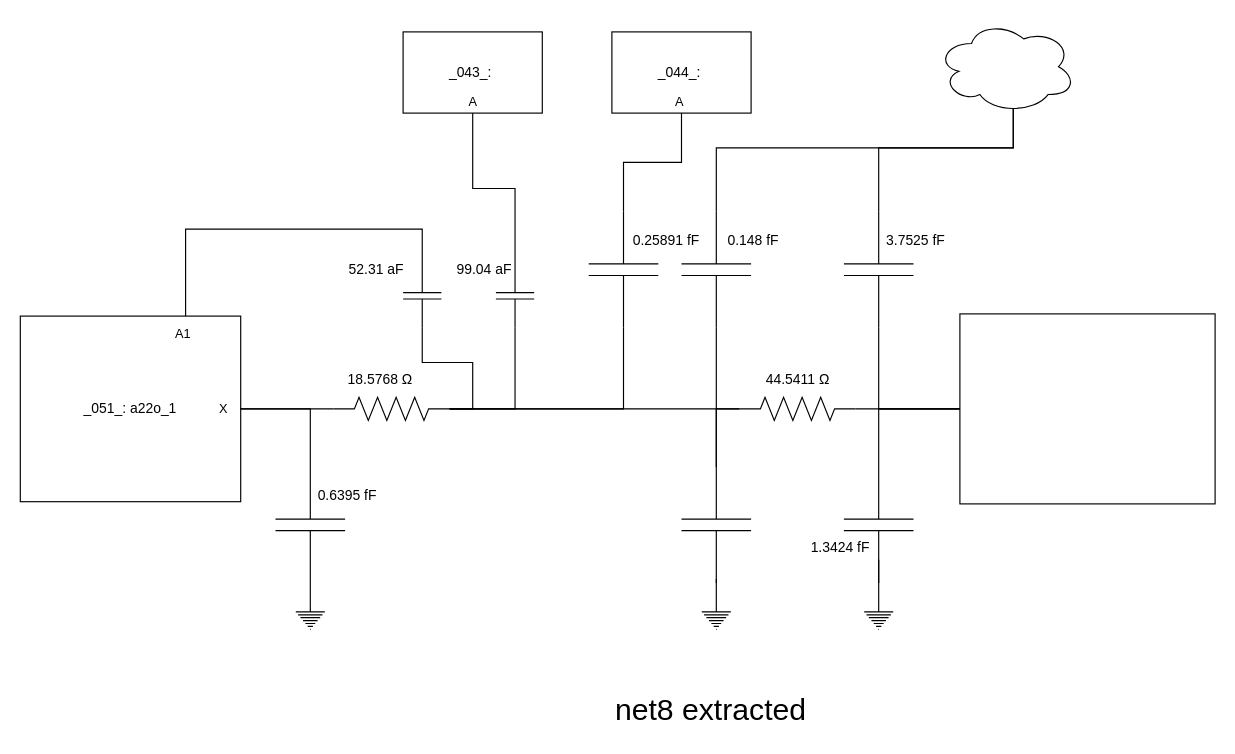
Image size: 1235x754. Some labels were removed from this diagram. Here are the shapes that lost their labels. From the top down, the box of each, then its label:
(936, 19, 1076, 113): net4
(959, 313, 1215, 504): output8: buf_2
(680, 466, 751, 583): 1.992 fF
